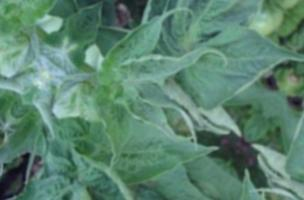Tomato leaf mosaic virus: (158, 0, 304, 141), (73, 75, 219, 200), (112, 6, 227, 120), (93, 0, 190, 94)
